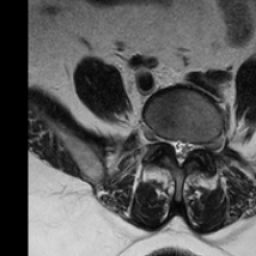CCS_normal: (176, 131, 184, 174)
LFS_severe_stenosis: (192, 132, 202, 157)
LLS_normal: (184, 131, 192, 164)
RFS_severe_stenosis: (160, 126, 169, 155)
RLS_severe_stenosis: (169, 129, 177, 163)
